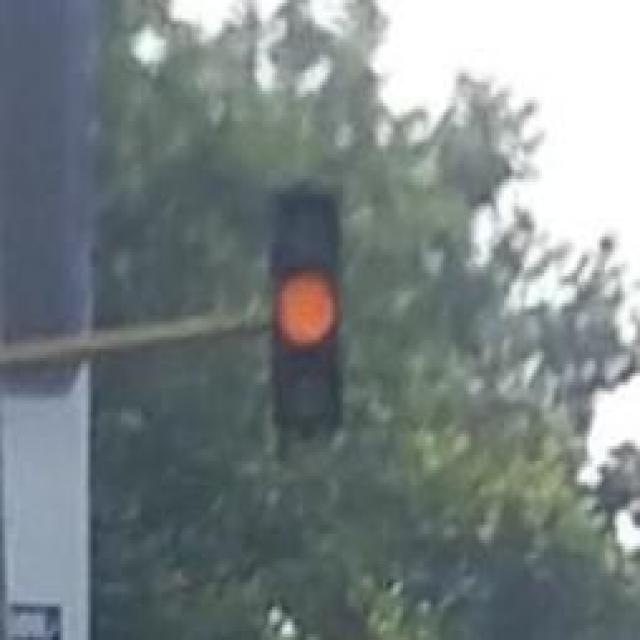yellow_light: (265, 188, 348, 430)
